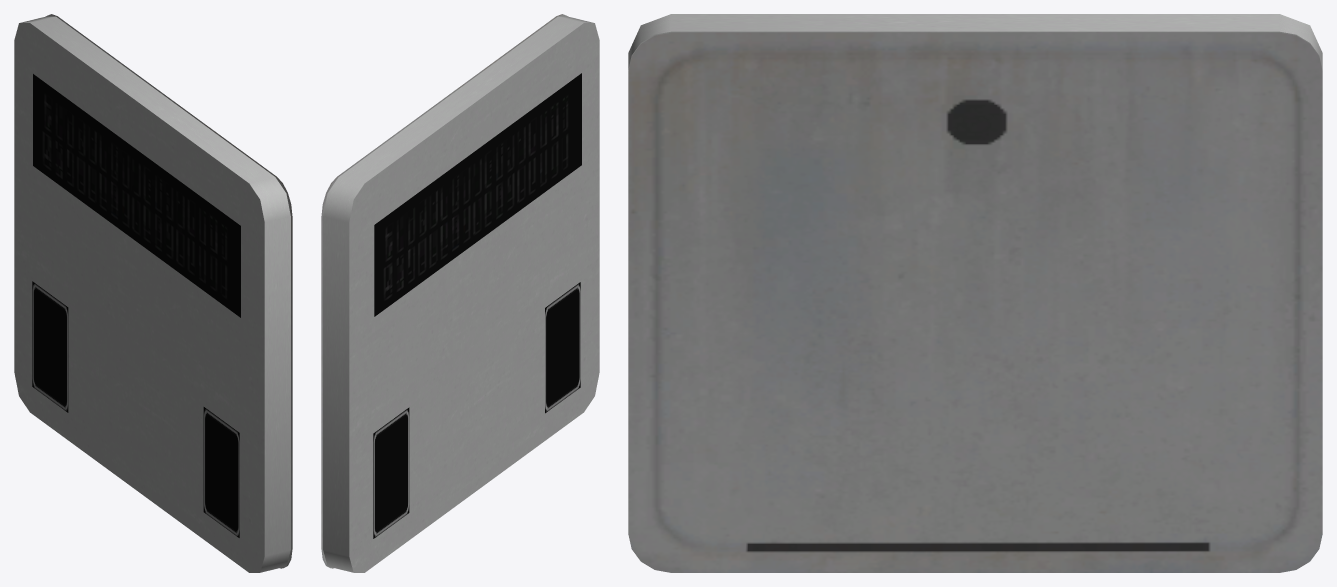
Rendered from p6_hijacked_exterior_hatch_lod1.glb.
3 views of the same model, side by side, from view 1: azimuth 30°, elevation 25°; view 2: azimuth 150°, elevation 25°; view 3: azimuth 270°, elevation 25° (orthographic). The views are drawn at different scales.
Visible parts, largest first — view 1: surf2, surf1, surf0, surf3; view 2: surf2, surf1, surf0, surf3; view 3: surf3, surf2.
Part boxes in pixels (<box>): surf2: <box>14,14,290,572</box>; surf1: <box>33,74,240,317</box>; surf0: <box>32,281,239,537</box>; surf3: <box>51,14,292,568</box>; surf2: <box>323,14,599,572</box>; surf1: <box>374,73,581,316</box>; surf0: <box>373,282,580,538</box>; surf3: <box>321,14,562,568</box>; surf3: <box>628,32,1322,572</box>; surf2: <box>628,14,1322,70</box>.
Bounding box in the file's own units: 4.69 × 56.55 × 65.87.
